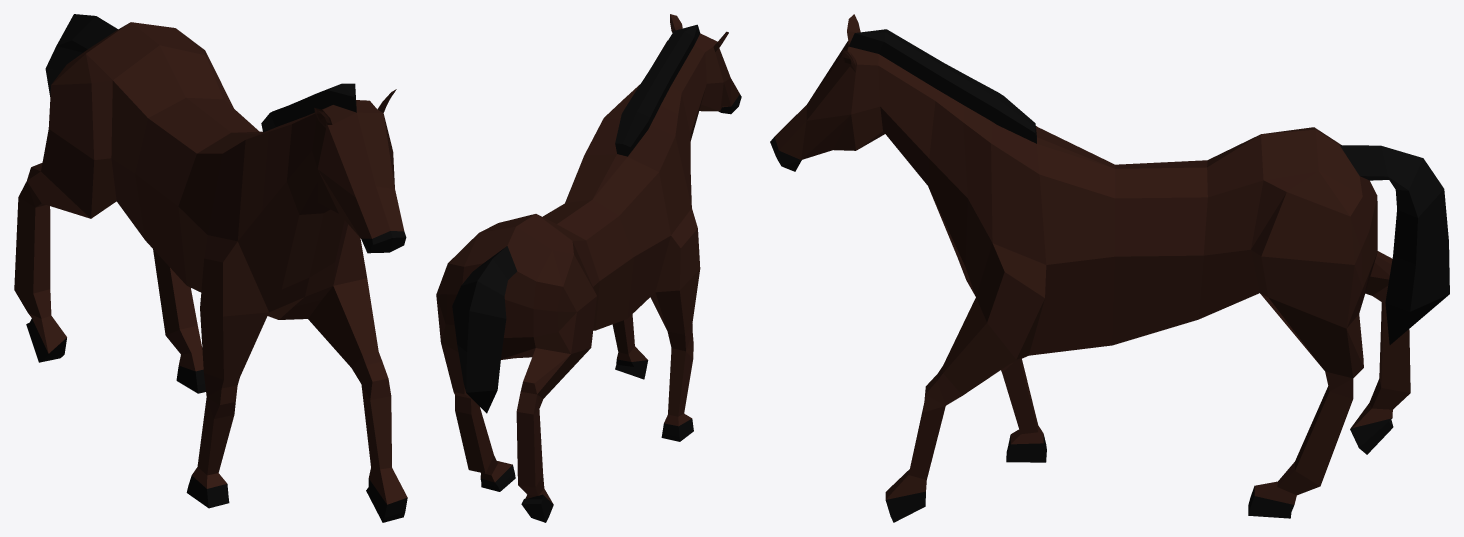
Rendered from Horse_000027.obj.
3 renders of one model, left to right at view 1: azimuth 30°, elevation 25°; view 2: azimuth 150°, elevation 25°; view 3: azimuth 270°, elevation 25°, orthographic. The views are drawn at different scales.
Visible parts, largest first — view 1: Horse_Cylinder; view 2: Horse_Cylinder; view 3: Horse_Cylinder.
Part boxes in pixels (x1,y1,x2,y2): Horse_Cylinder: [14, 14, 407, 522]; Horse_Cylinder: [436, 14, 741, 522]; Horse_Cylinder: [770, 14, 1449, 522].
Size of the model in its own units: 2.55 by 6.78 by 9.1.
